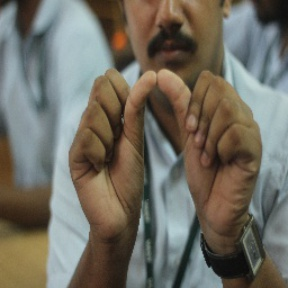A: (82, 62, 239, 213)
